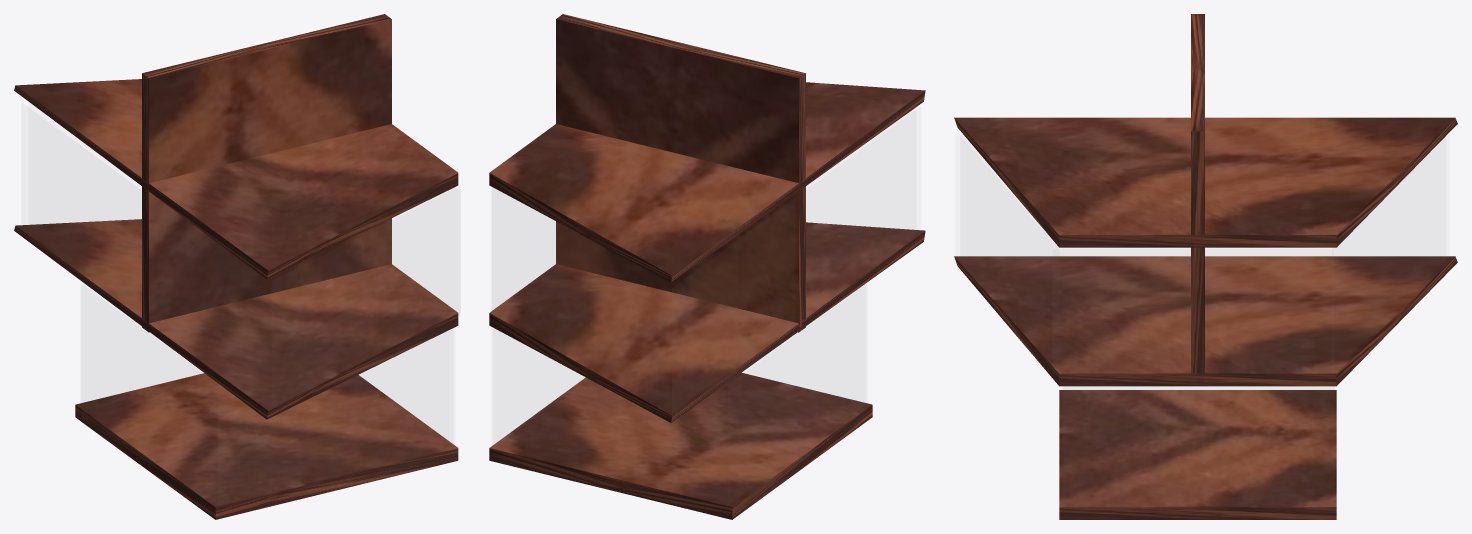
The model's file is LargeDisplayCase.fbx.
3 renders of one model, left to right at view 1: azimuth 30°, elevation 25°; view 2: azimuth 150°, elevation 25°; view 3: azimuth 270°, elevation 25°, orthographic.
Parts seen in each view (by area): view 1: LargeDisplayCaseMesh; view 2: LargeDisplayCaseMesh; view 3: LargeDisplayCaseMesh.
Boxes of the visible parts, x1=… form: LargeDisplayCaseMesh: x1=14, y1=14, x2=458, y2=519; LargeDisplayCaseMesh: x1=489, y1=14, x2=925, y2=519; LargeDisplayCaseMesh: x1=954, y1=14, x2=1457, y2=519.
Size of the model in its own units: 10.11 by 15.45 by 18.15.
